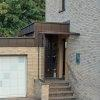stairs: (38, 79, 77, 100)
